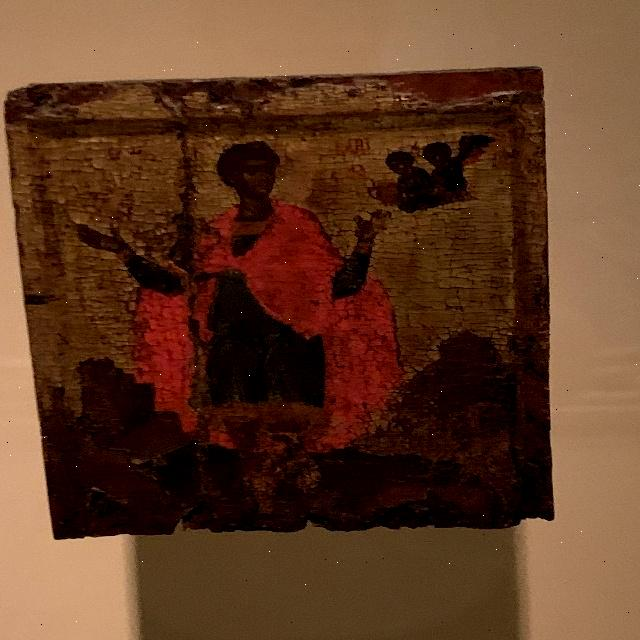angel: (358, 130, 505, 215)
saint: (83, 133, 385, 457)
